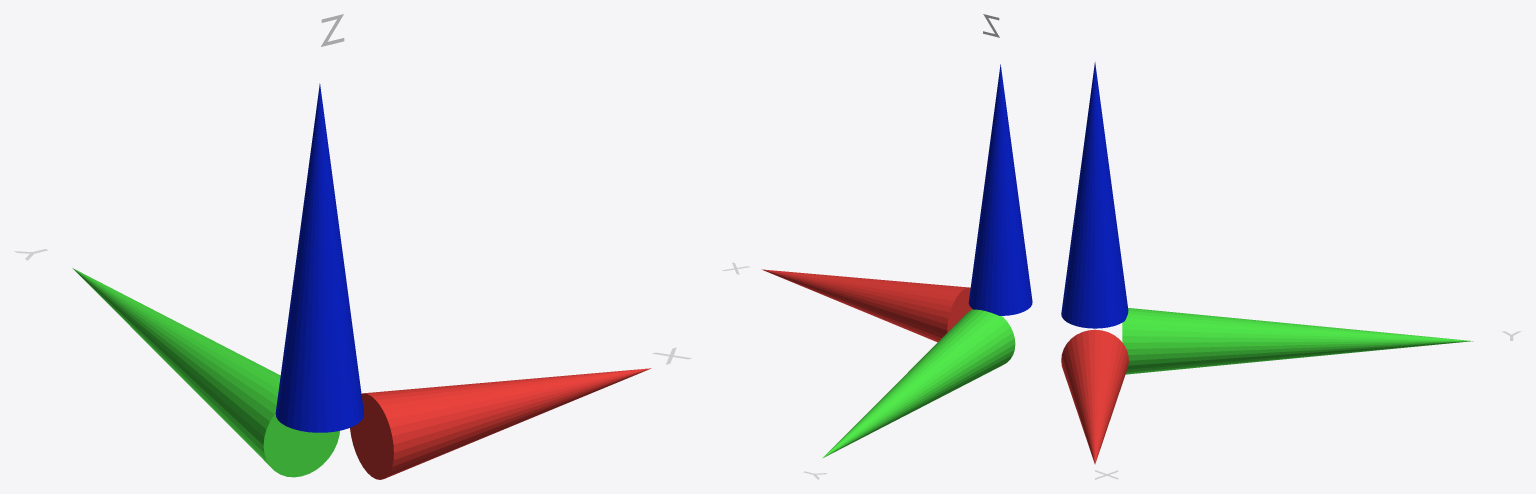
Rendered from coordinate.fbx.
The picture shows the model from 3 angles, left to right: view 1: azimuth 30°, elevation 25°; view 2: azimuth 150°, elevation 25°; view 3: azimuth 270°, elevation 25°; orthographic projection. The views are drawn at different scales.
Parts seen in each view (by area): view 1: 円錐, 円錐.002, 円錐.001; view 2: 円錐, 円錐.001, 円錐.002; view 3: 円錐.001, 円錐, 円錐.002.
Boxes of the visible parts, left/top/right/bottom form: 円錐: left=275, top=83, right=363, bottom=432; 円錐.002: left=350, top=368, right=651, bottom=479; 円錐.001: left=72, top=268, right=339, bottom=477; 円錐: left=968, top=64, right=1032, bottom=315; 円錐.001: left=822, top=309, right=1015, bottom=458; 円錐.002: left=761, top=269, right=972, bottom=342; 円錐.001: left=1122, top=308, right=1473, bottom=374; 円錐: left=1061, top=62, right=1128, bottom=328; 円錐.002: left=1061, top=329, right=1128, bottom=464.
Size of the model in its own units: 1360 by 1071 by 1168.
